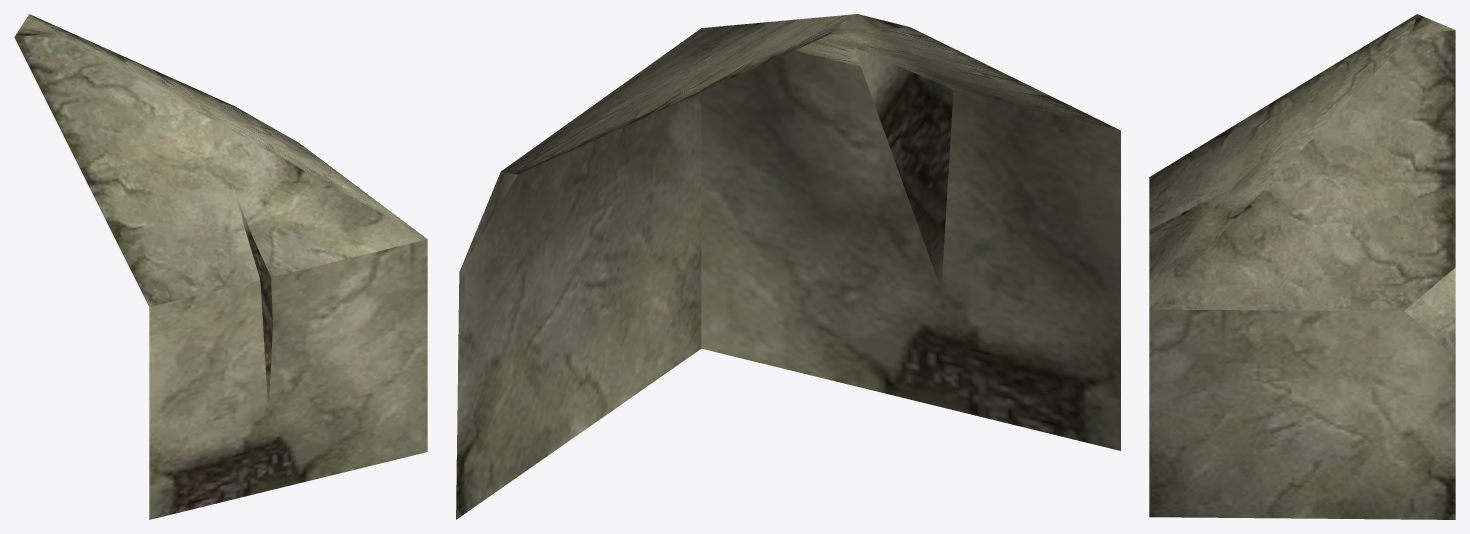
Rendered from OC_DECOWALL_02.glb.
3 renders of one model, left to right at view 1: azimuth 30°, elevation 25°; view 2: azimuth 150°, elevation 25°; view 3: azimuth 270°, elevation 25°, orthographic. The views are drawn at different scales.
Parts seen in each view (by area): view 1: Mesh; view 2: Mesh; view 3: Mesh.
Part boxes in pixels (<box>): Mesh: <box>14,14,427,519</box>; Mesh: <box>456,14,1120,519</box>; Mesh: <box>1149,14,1455,519</box>.
Bounding box in the file's own units: 1.57 × 2.01 × 1.5.
1 material, 1 textured.
